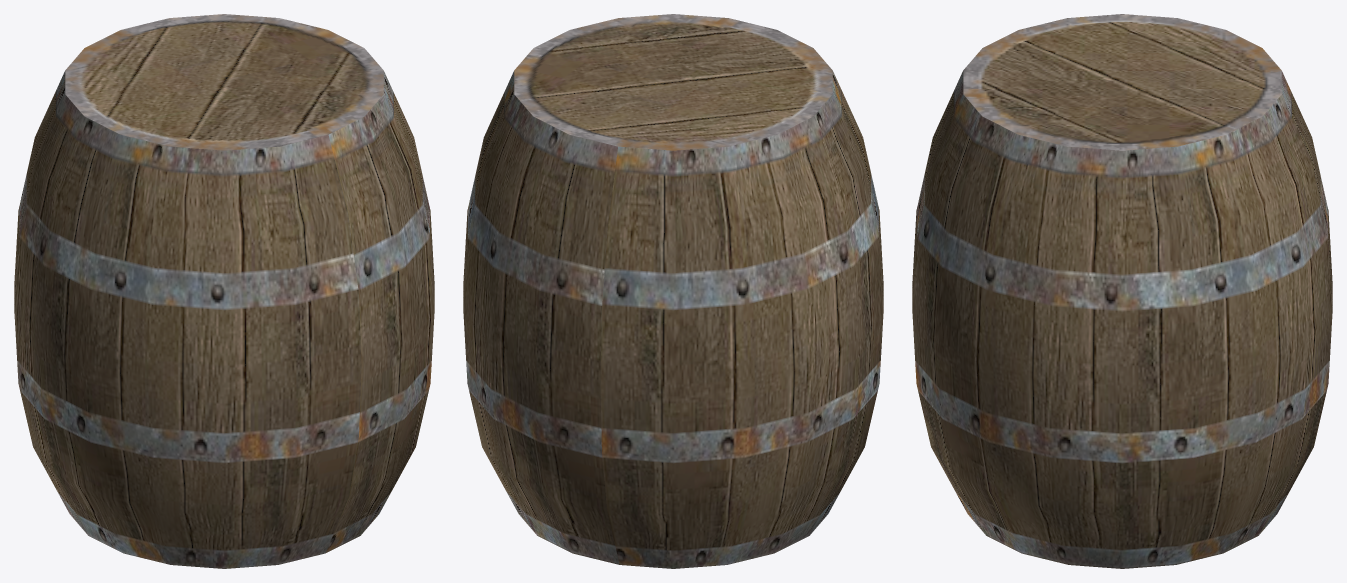
The model's file is barrel.FBX.
3 renders of one model, left to right at view 1: azimuth 30°, elevation 25°; view 2: azimuth 150°, elevation 25°; view 3: azimuth 270°, elevation 25°, orthographic.
Parts seen in each view (by area): view 1: barrel; view 2: barrel; view 3: barrel.
Part boxes in pixels (box(x1,y1,x2,y2)): barrel: box(14, 14, 434, 568); barrel: box(463, 14, 883, 568); barrel: box(912, 14, 1332, 568).
Size of the model in its own units: 8.62 by 9.37 by 8.49.
Materials: 1 (1 with a texture image).
